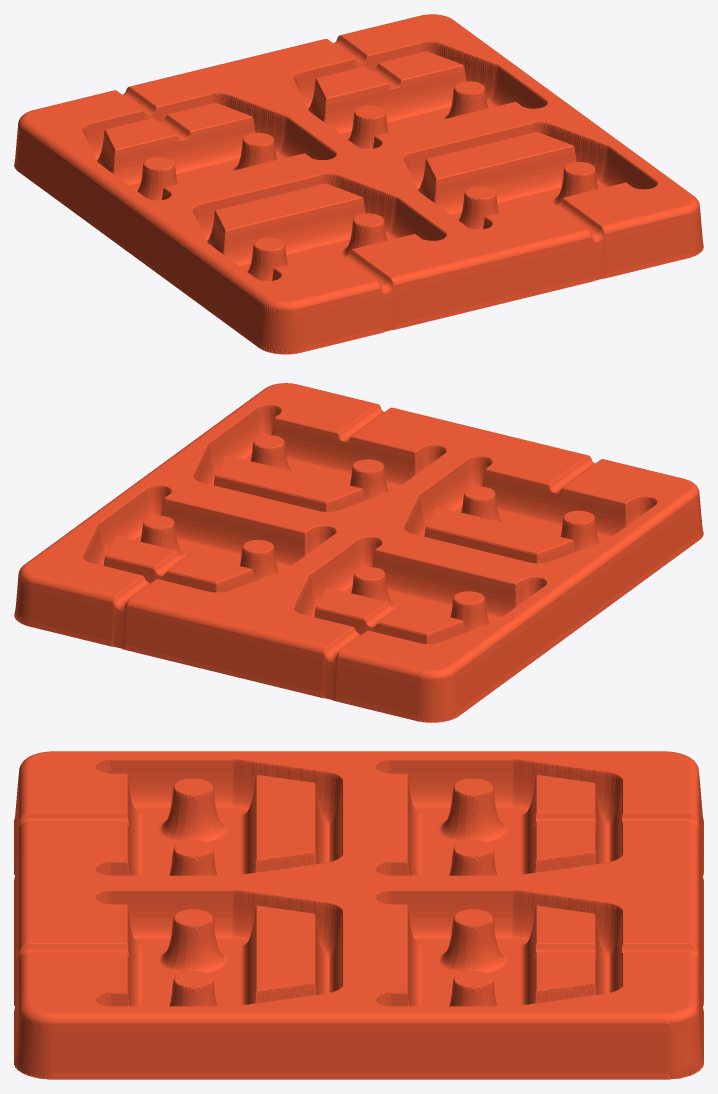
The model's file is mold.glb.
The picture shows the model from 3 angles, top to bottom: view 1: azimuth 30°, elevation 25°; view 2: azimuth 150°, elevation 25°; view 3: azimuth 270°, elevation 25°; orthographic projection. The views are drawn at different scales.
Visible parts, largest first — view 1: geometry_0; view 2: geometry_0; view 3: geometry_0.
Boxes of the visible parts, x1,y1,x2,y2 form: geometry_0: (14, 14, 703, 354); geometry_0: (14, 383, 703, 722); geometry_0: (14, 751, 703, 1079).
Size of the model in its own units: 0.1497 by 0.0155 by 0.1598.
